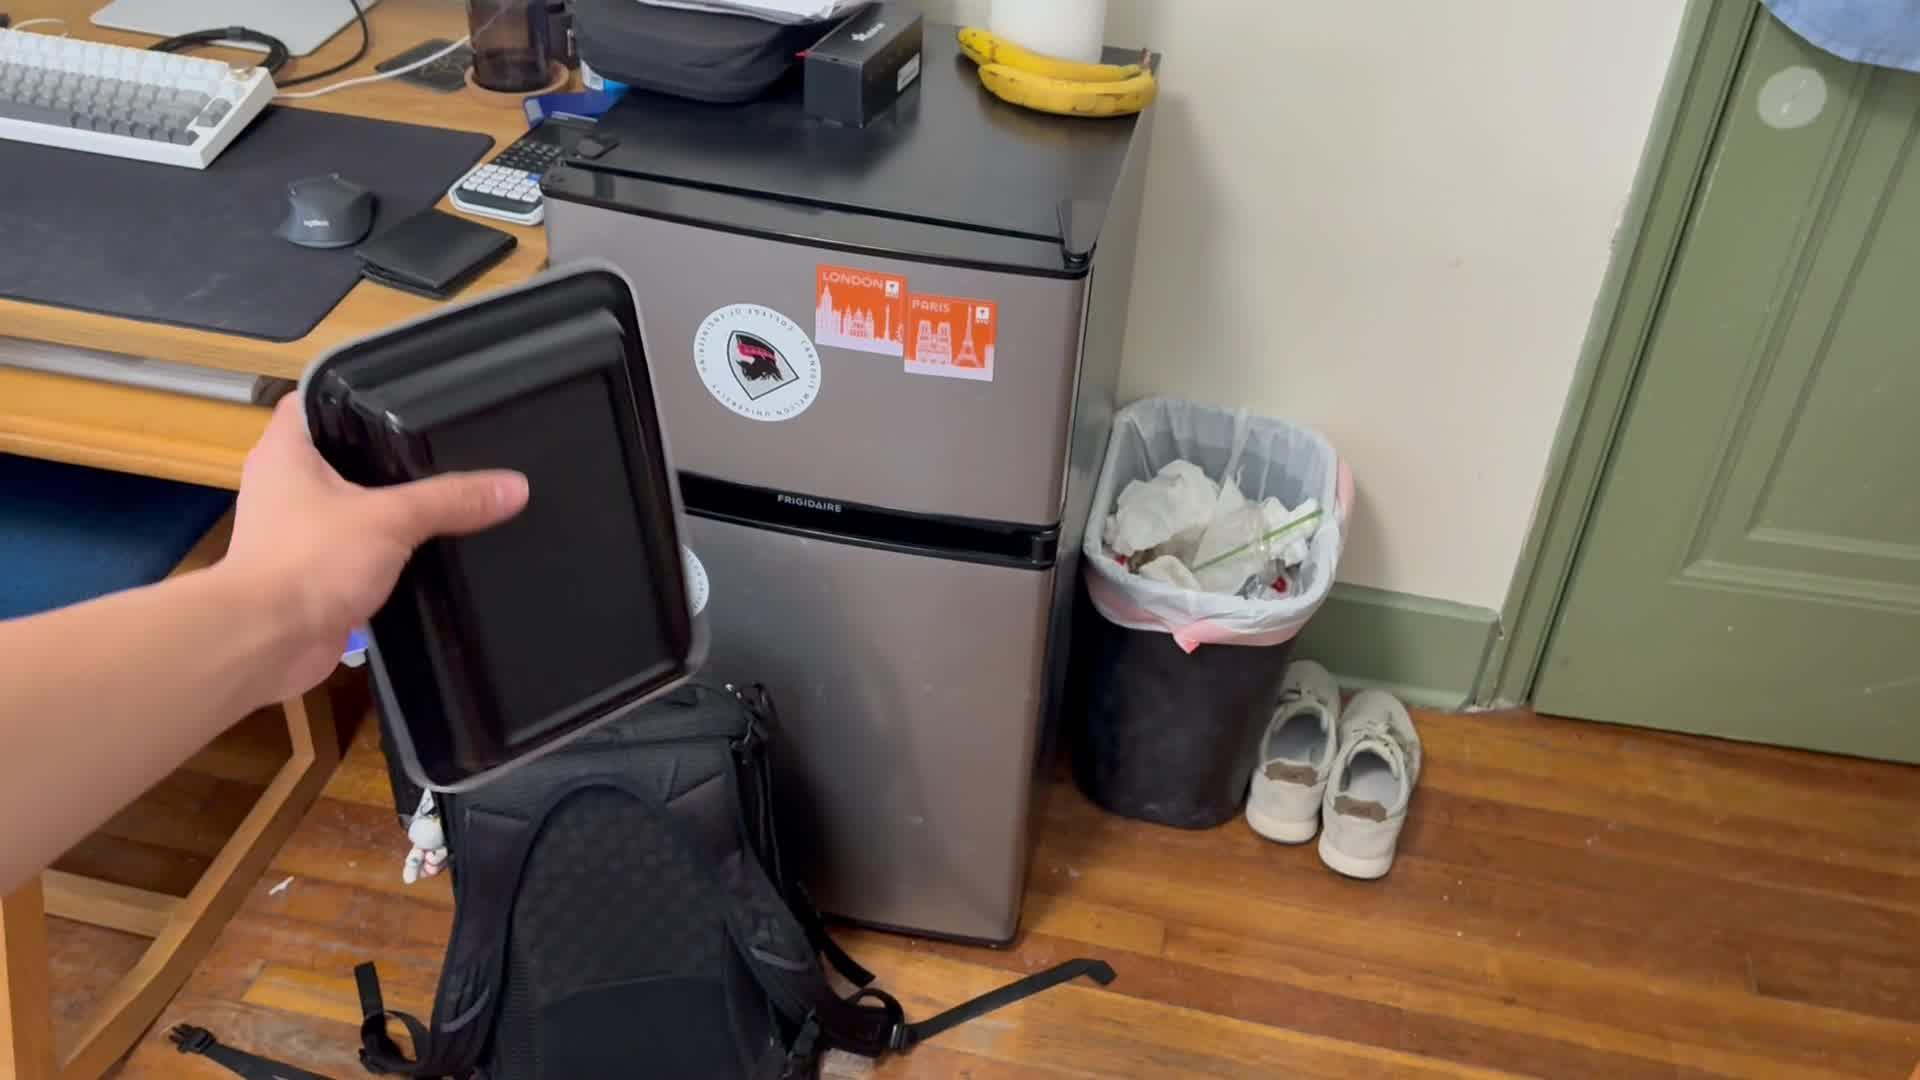lp_cup_lids: (304, 271, 711, 790)
